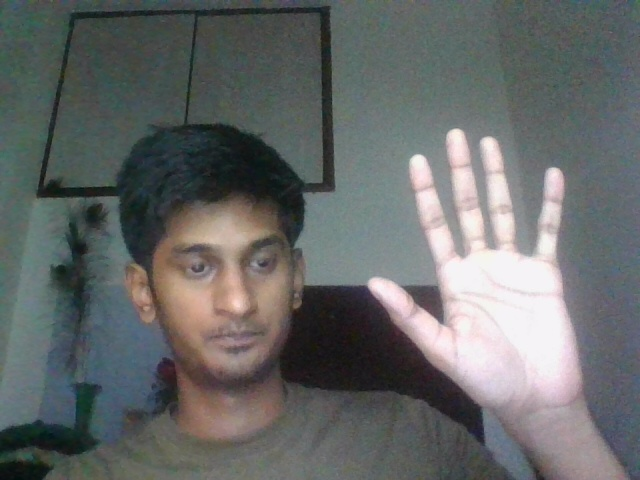Hello: (349, 109, 602, 426)
